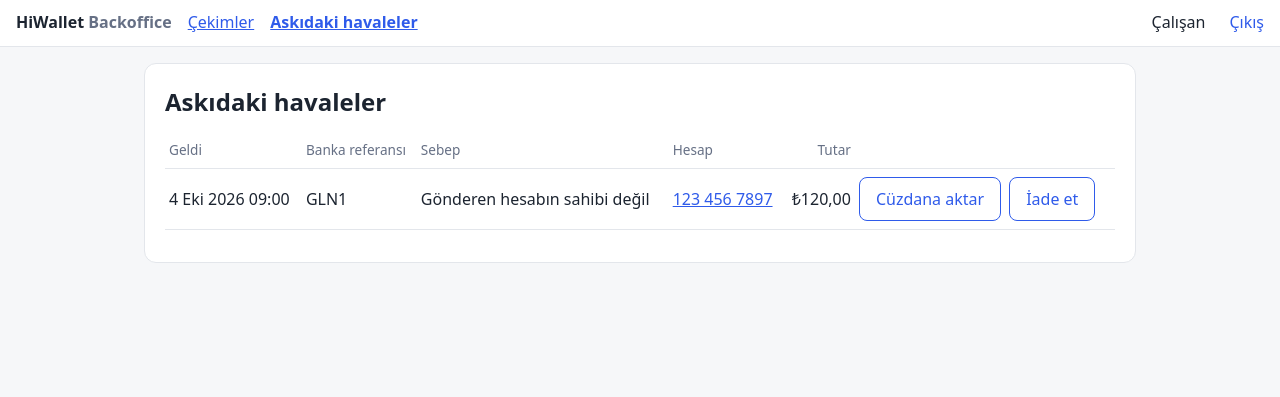
it: SuspendedDepositsPage › izinli çalışan havaleyi göndericiye iade ediyor
Click the button "İade et". click: (1052,199)
box: [1009,177,1095,221]
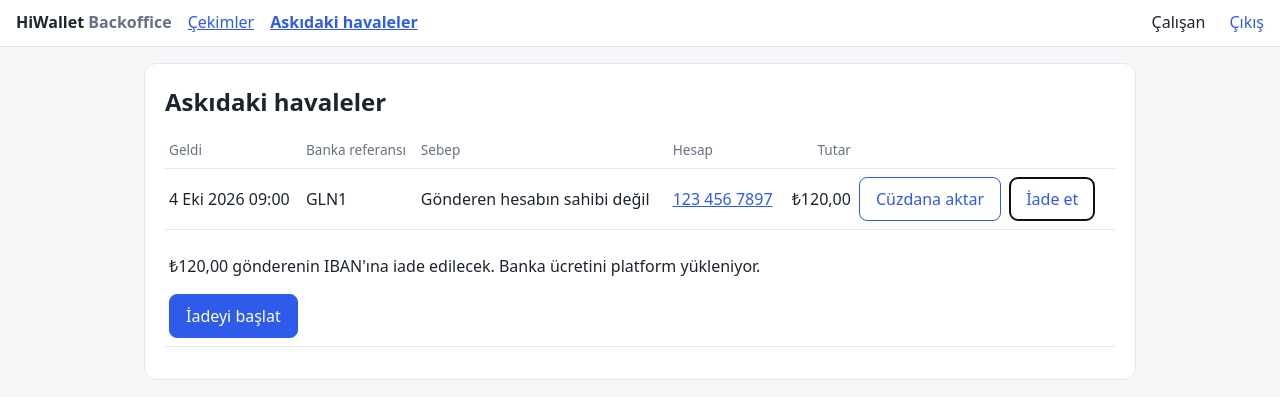
Click the button "İadeyi başlat". click: (233,316)
box: [169,294,298,338]
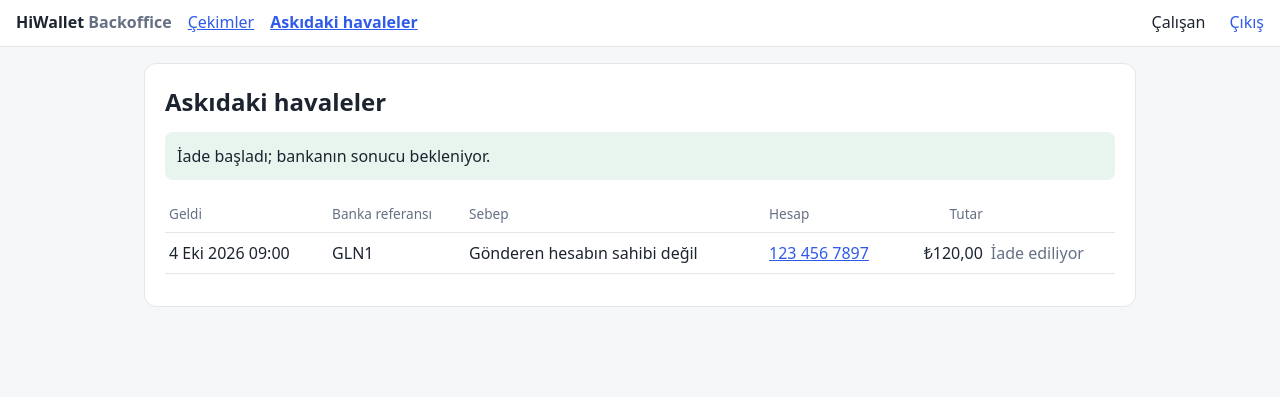
Expected: the text "İade başladı; bankanın sonucu bekleniyor." is shown, [165,132,1115,180]
Expected: the text "İade ediliyor" is shown, [991,242,1084,264]
Expected: the button "İade et" is gone
